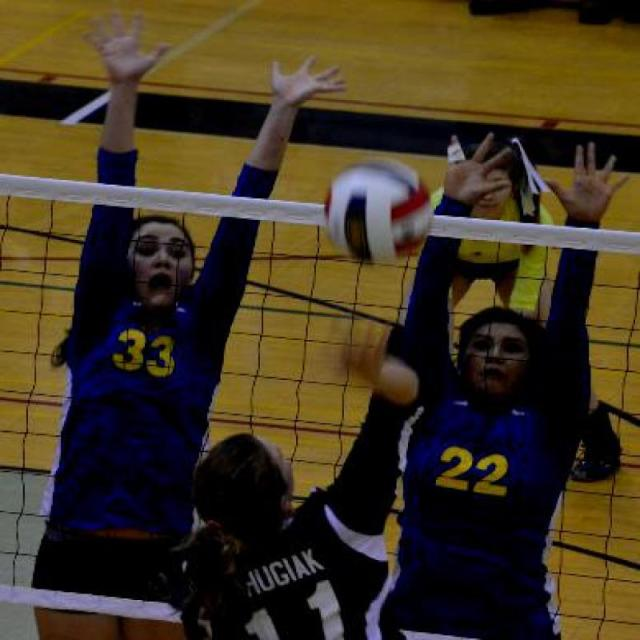volleyball: (319, 158, 438, 258)
